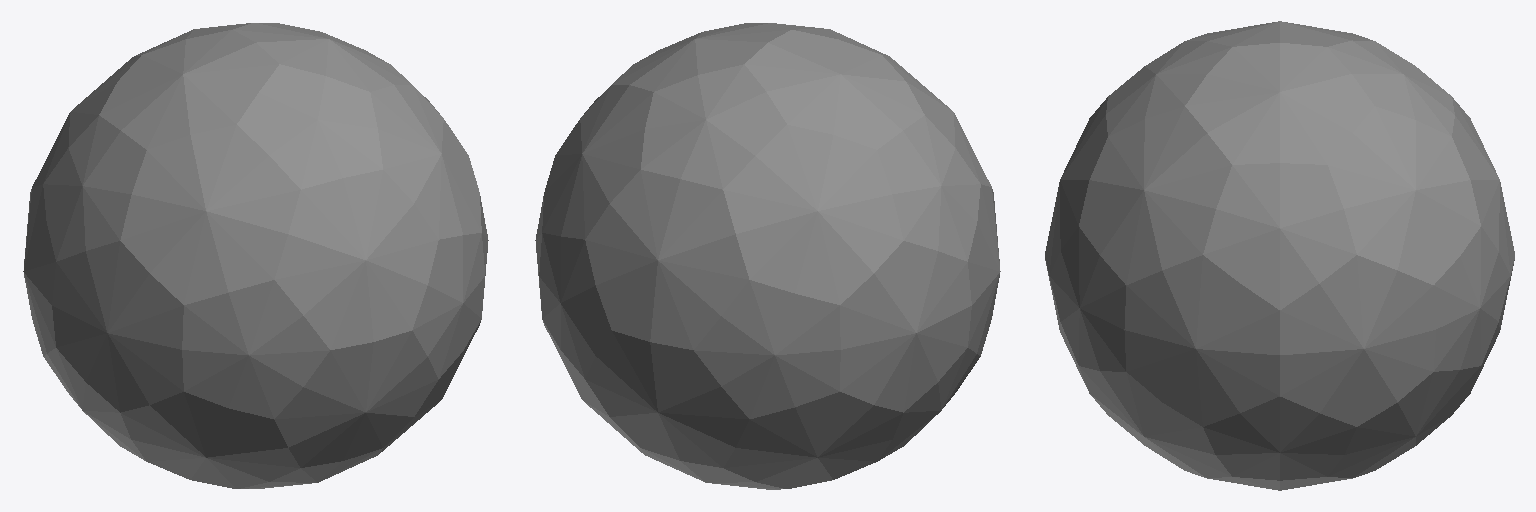
Rendered from Ball.obj.
3 renders of one model, left to right at view 1: azimuth 30°, elevation 25°; view 2: azimuth 150°, elevation 25°; view 3: azimuth 270°, elevation 25°, orthographic.
Visible parts, largest first — view 1: Ball; view 2: Ball; view 3: Ball.
Part boxes in pixels (bbox=[...]): Ball: bbox=[23, 23, 488, 488]; Ball: bbox=[535, 23, 1000, 489]; Ball: bbox=[1045, 21, 1514, 490].
Size of the model in its own units: 91.92 by 91.92 by 91.92.